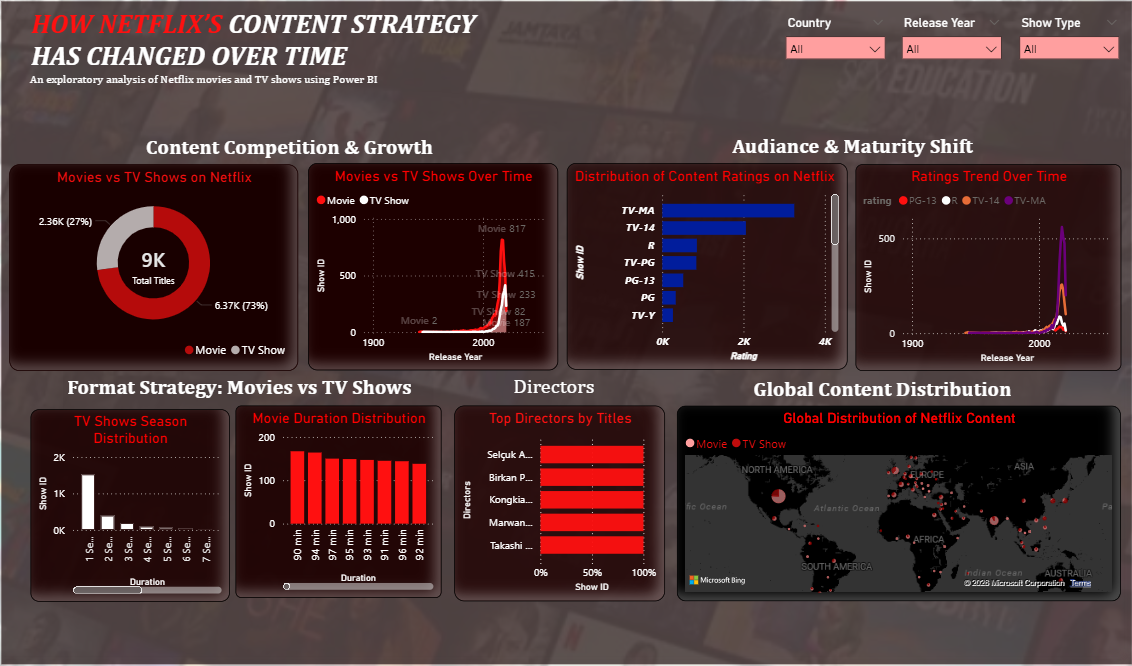

Layout of this report page (visuals, bound fields, positions):
{"tool":"powerbi","page":{"name":"Page 2","canvas":[1350,800],"ordinal":0},"visuals":[{"type":"shape","box":[0,0,1350,800],"z":0},{"type":"donutChart","title":"Movies vs TV Shows on Netflix","fields":{"Category":["netflix_titles.type"],"Y":["netflix_titles.show_id"]},"box":[18.6,201.4,340,242.9],"z":1000},{"type":"map","title":"Global Distribution of Netflix Content","fields":{"Category":["netflix_titles.country.1"],"Series":["netflix_titles.type"],"Size":["netflix_titles.show_id"]},"box":[804,486,522,230],"z":2000},{"type":"slicer","fields":{"Values":["netflix_titles.type"]},"box":[1196.7,21.7,138.3,76.7],"z":3000},{"type":"slicer","fields":{"Values":["netflix_titles.release_year"]},"box":[1058.3,21.7,138.3,76.7],"z":4000},{"type":"slicer","fields":{"Values":["netflix_titles.country.1"]},"box":[921.7,21.7,138.3,76.7],"z":5000},{"type":"clusteredBarChart","title":"Distribution of Content Ratings on Netflix","fields":{"Category":["netflix_titles.rating"],"Y":["netflix_titles.show_id"]},"box":[674.3,200,330,242.9],"z":6000},{"type":"areaChart","title":"Movies vs TV Shows Over Time","fields":{"Category":["netflix_titles.release_year"],"Y":["netflix_titles.show_id"],"Series":["netflix_titles.type"]},"box":[370,200,294.3,244.3],"z":7000},{"type":"lineChart","title":"Ratings Trend Over Time","fields":{"Category":["netflix_titles.release_year"],"Y":["netflix_titles.show_id"],"Series":["netflix_titles.rating"]},"box":[1014.3,201.4,312.9,242.9],"z":8000},{"type":"clusteredColumnChart","title":"TV Shows Season Distribution","fields":{"Category":["netflix_titles.duration"],"Y":["netflix_titles.show_id"]},"box":[44,490,234,226],"z":9000},{"type":"clusteredColumnChart","title":"Movie Duration Distribution","fields":{"Category":["netflix_titles.duration"],"Y":["netflix_titles.show_id"]},"box":[286,486,242,226],"z":10000},{"type":"textbox","box":[0,11.4,670,110],"z":11000},{"type":"textbox","box":[82,444,436,46],"z":12000},{"type":"textbox","box":[890,446,338,40],"z":13000},{"type":"textbox","box":[175.7,161.4,365.7,38.6],"z":14000},{"type":"textbox","box":[864.3,160,300,40],"z":15000},{"type":"cardVisual","fields":{"Data":["netflix_titles.Total Titles"]},"box":[131.7,278.3,113.3,86.7],"z":16000},{"type":"hundredPercentStackedBarChart","title":"Top Directors by Titles","fields":{"Category":["netflix_titles.director"],"Y":["netflix_titles.show_id"]},"box":[542,486,248,230],"z":17000},{"type":"textbox","box":[608,442,300,44],"z":18000}]}

Visuals, with their boxes in screenshot pixels (x1, y1, x2, y2), scaled from the page's 1350x800 canvas onto the 1132x666 screenshot:
shape: box=[0, 0, 1131, 665]
"Movies vs TV Shows on Netflix" donutChart: box=[16, 168, 301, 370]
"Global Distribution of Netflix Content" map: box=[674, 405, 1112, 596]
slicer - netflix_titles.type: box=[1003, 18, 1119, 82]
slicer - netflix_titles.release_year: box=[887, 18, 1003, 82]
slicer - netflix_titles.country.1: box=[773, 18, 889, 82]
"Distribution of Content Ratings on Netflix" clusteredBarChart: box=[565, 166, 842, 369]
"Movies vs TV Shows Over Time" areaChart: box=[310, 166, 557, 370]
"Ratings Trend Over Time" lineChart: box=[851, 168, 1113, 370]
"TV Shows Season Distribution" clusteredColumnChart: box=[37, 408, 233, 596]
"Movie Duration Distribution" clusteredColumnChart: box=[240, 405, 443, 593]
textbox: box=[0, 9, 562, 101]
textbox: box=[69, 370, 434, 408]
textbox: box=[746, 371, 1030, 405]
textbox: box=[147, 134, 454, 166]
textbox: box=[725, 133, 976, 166]
cardVisual - netflix_titles.Total Titles: box=[110, 232, 205, 304]
"Top Directors by Titles" hundredPercentStackedBarChart: box=[454, 405, 662, 596]
textbox: box=[510, 368, 761, 405]
